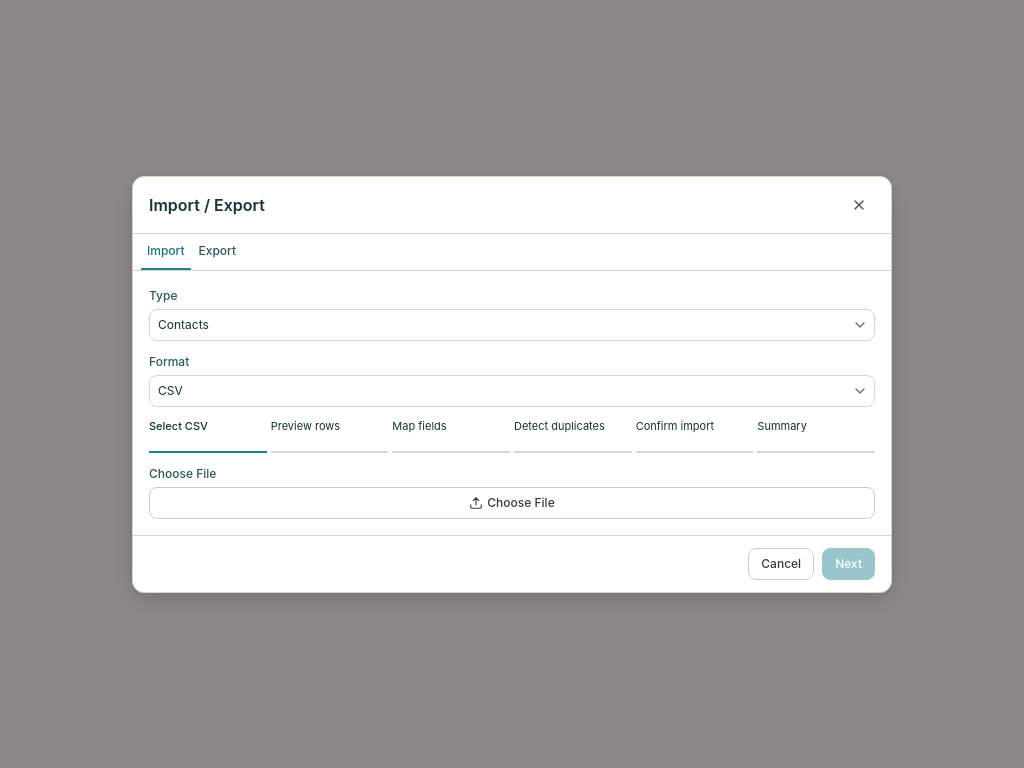
Scenario: ImportExport component › skips duplicate review for activity JSON imports while keeping mapping and confirmation
Select "Activities" in the dropdown labelled "Type" at (512, 324), box [149,308,875,340]
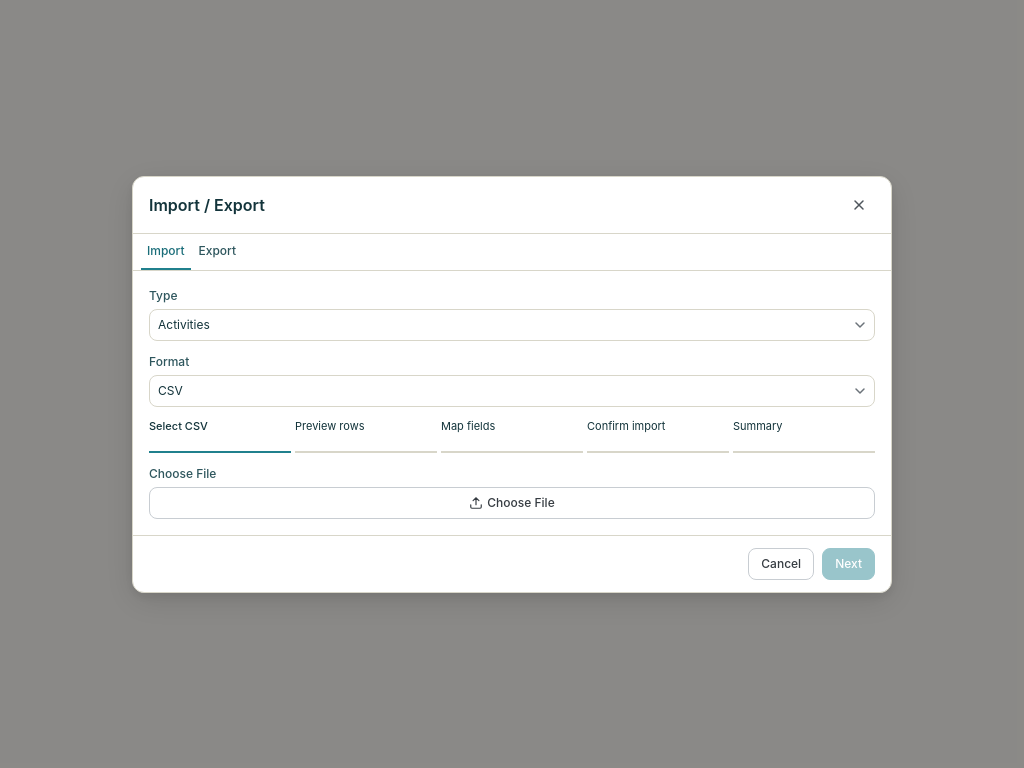
Select "JSON" in the dropdown labelled "Format" at (512, 390), box [149,374,875,406]
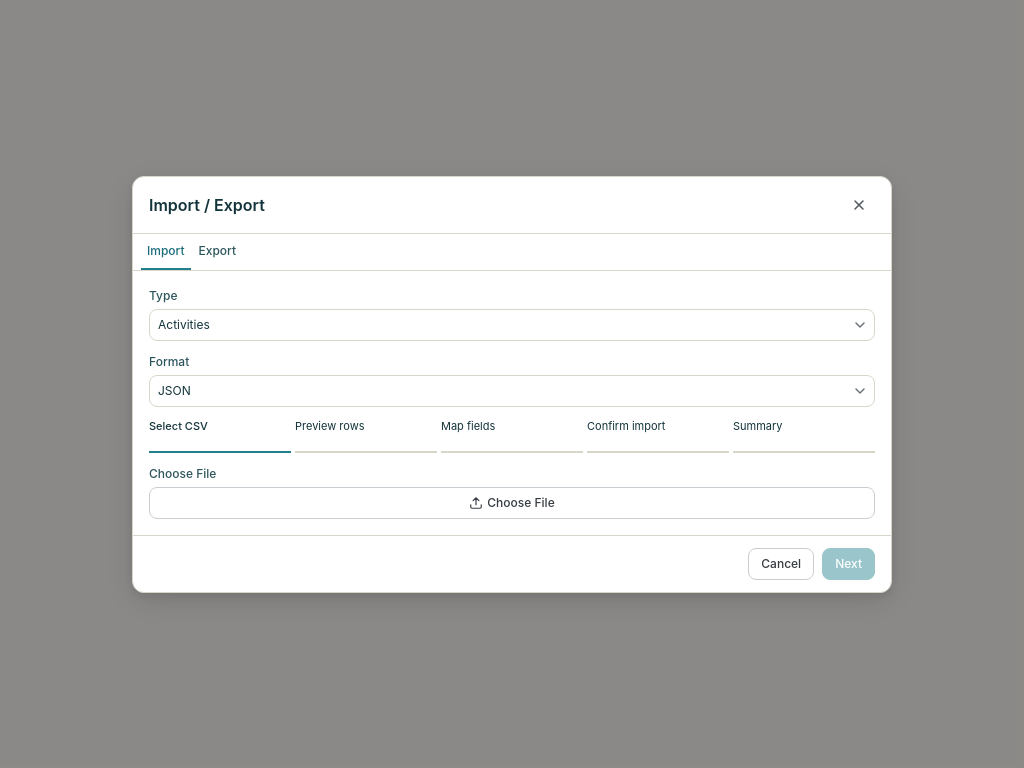
Click the button "Choose File" at (512, 502), box [149,486,875,518]
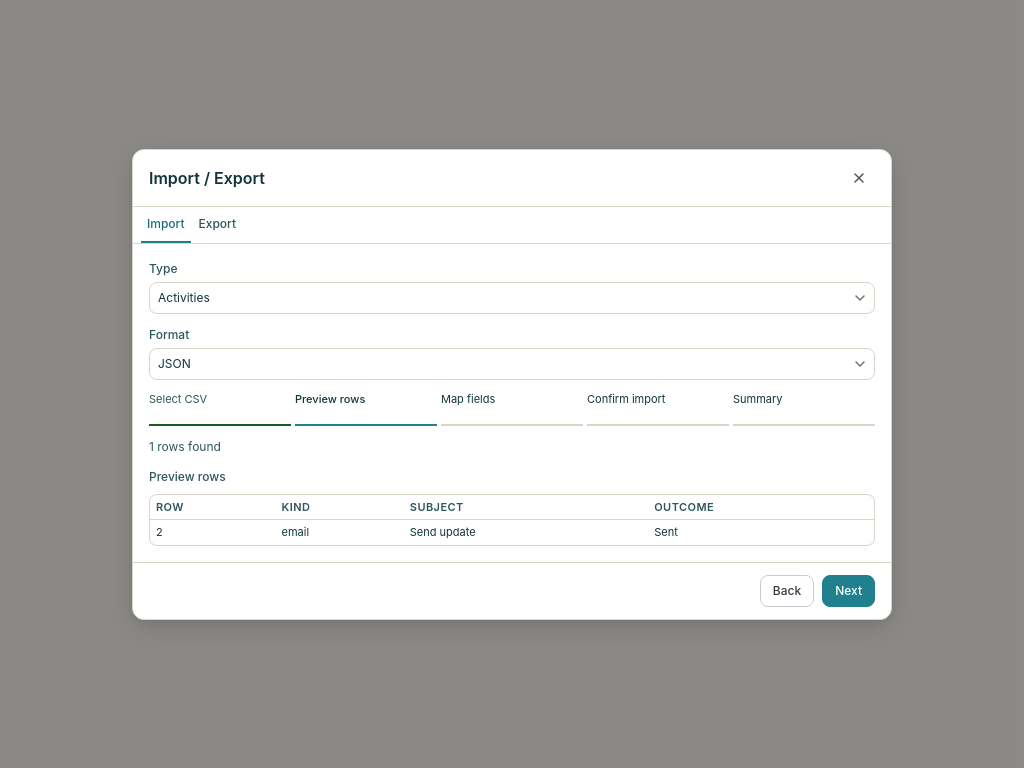
Check: the text "Send update" is shown, box [404,520,648,544]
Click the button "Next" at (849, 590), box [822,574,875,606]
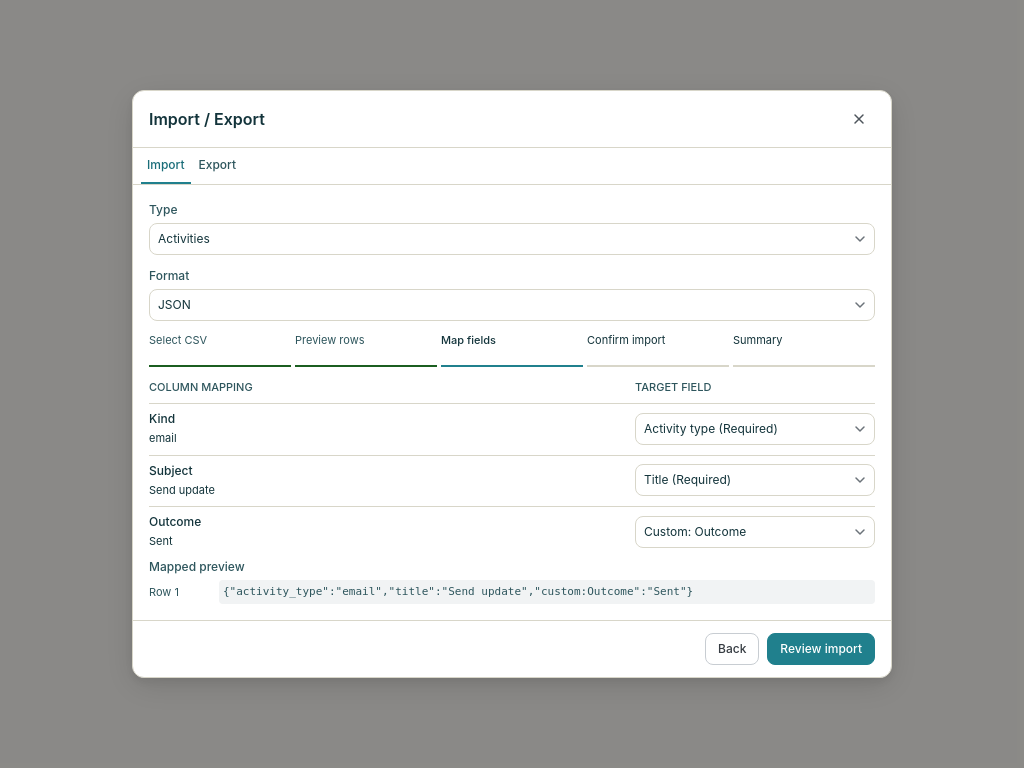
Check: the text "Column Mapping" is shown, box [149,380,253,394]
Check: the dropdown named "Map to field: Kind" is shown, box [635,412,875,444]
Check: the dropdown named "Map to field: Subject" is shown, box [635,464,875,496]
Click the button "Review import" at (821, 649), box [767,633,875,665]
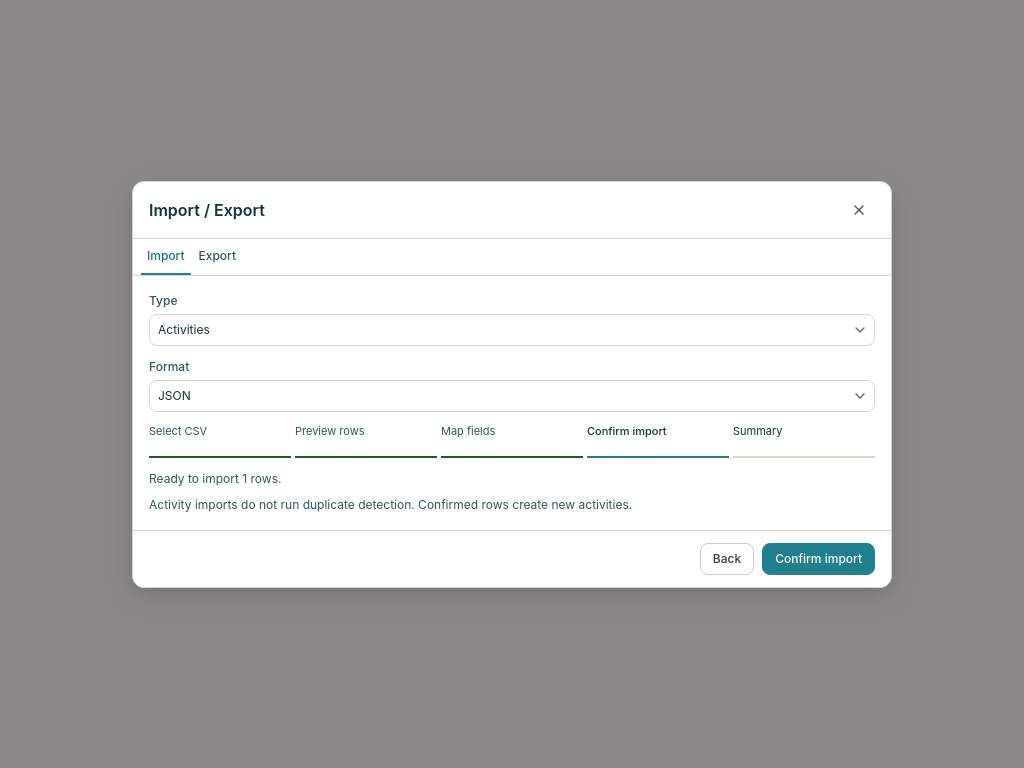
Check: the text "Activity imports do not run duplicate detection. Confirmed rows create new activities." is shown, box [149,496,632,512]
Click the button "Confirm import" at (819, 558), box [762,542,875,574]
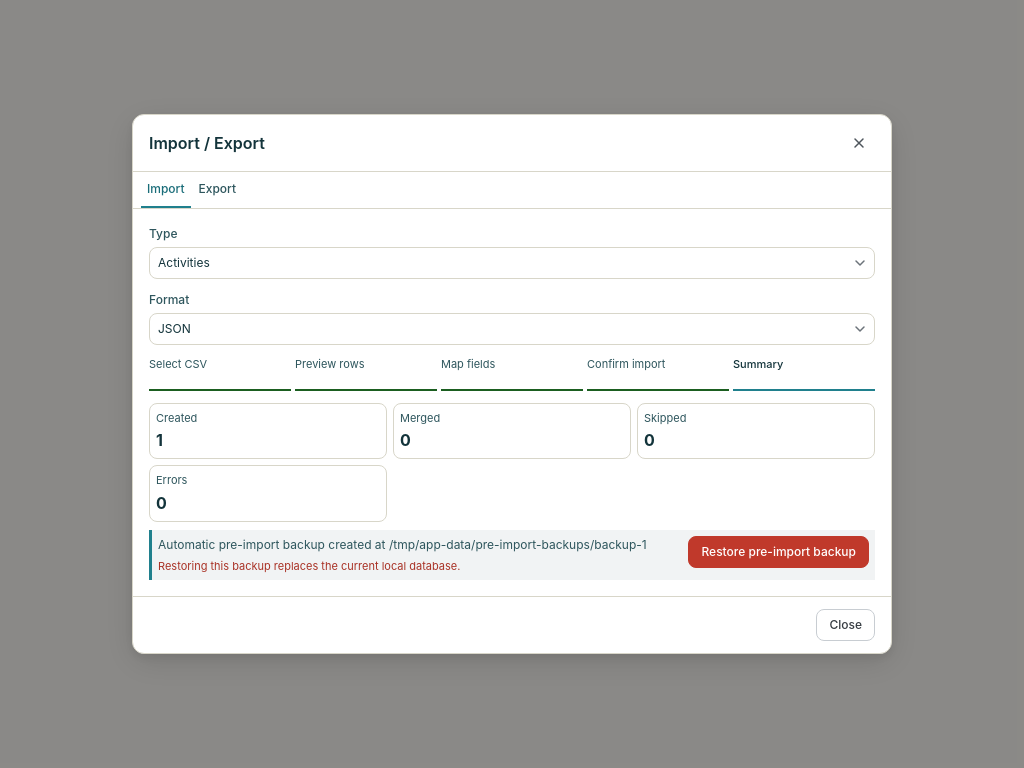
Check: the text "Created" is shown, box [156,411,197,425]
